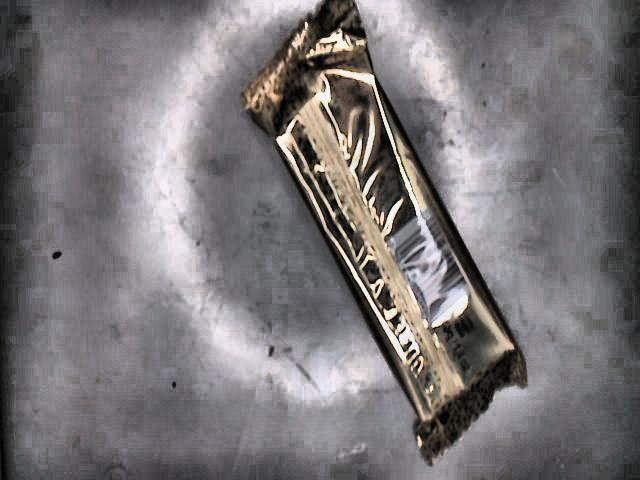Plastic: (242, 0, 530, 465)
